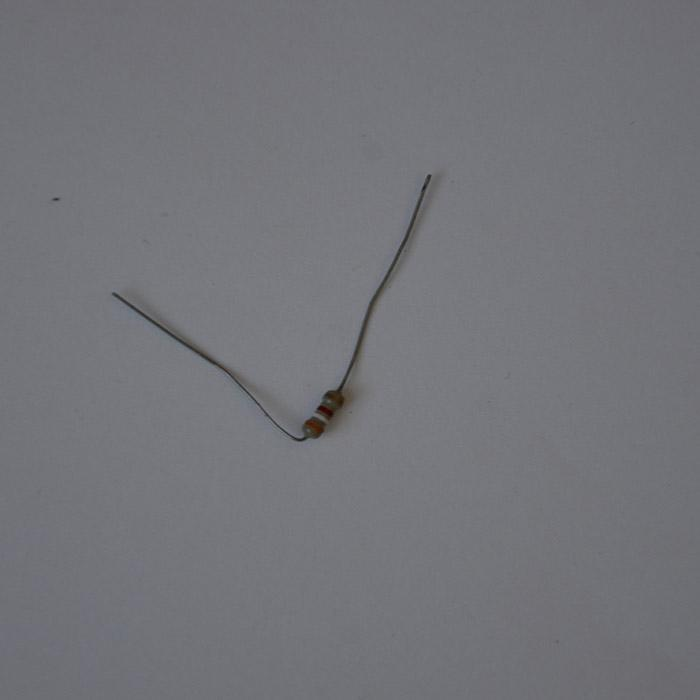resistor: (301, 388, 343, 440)
